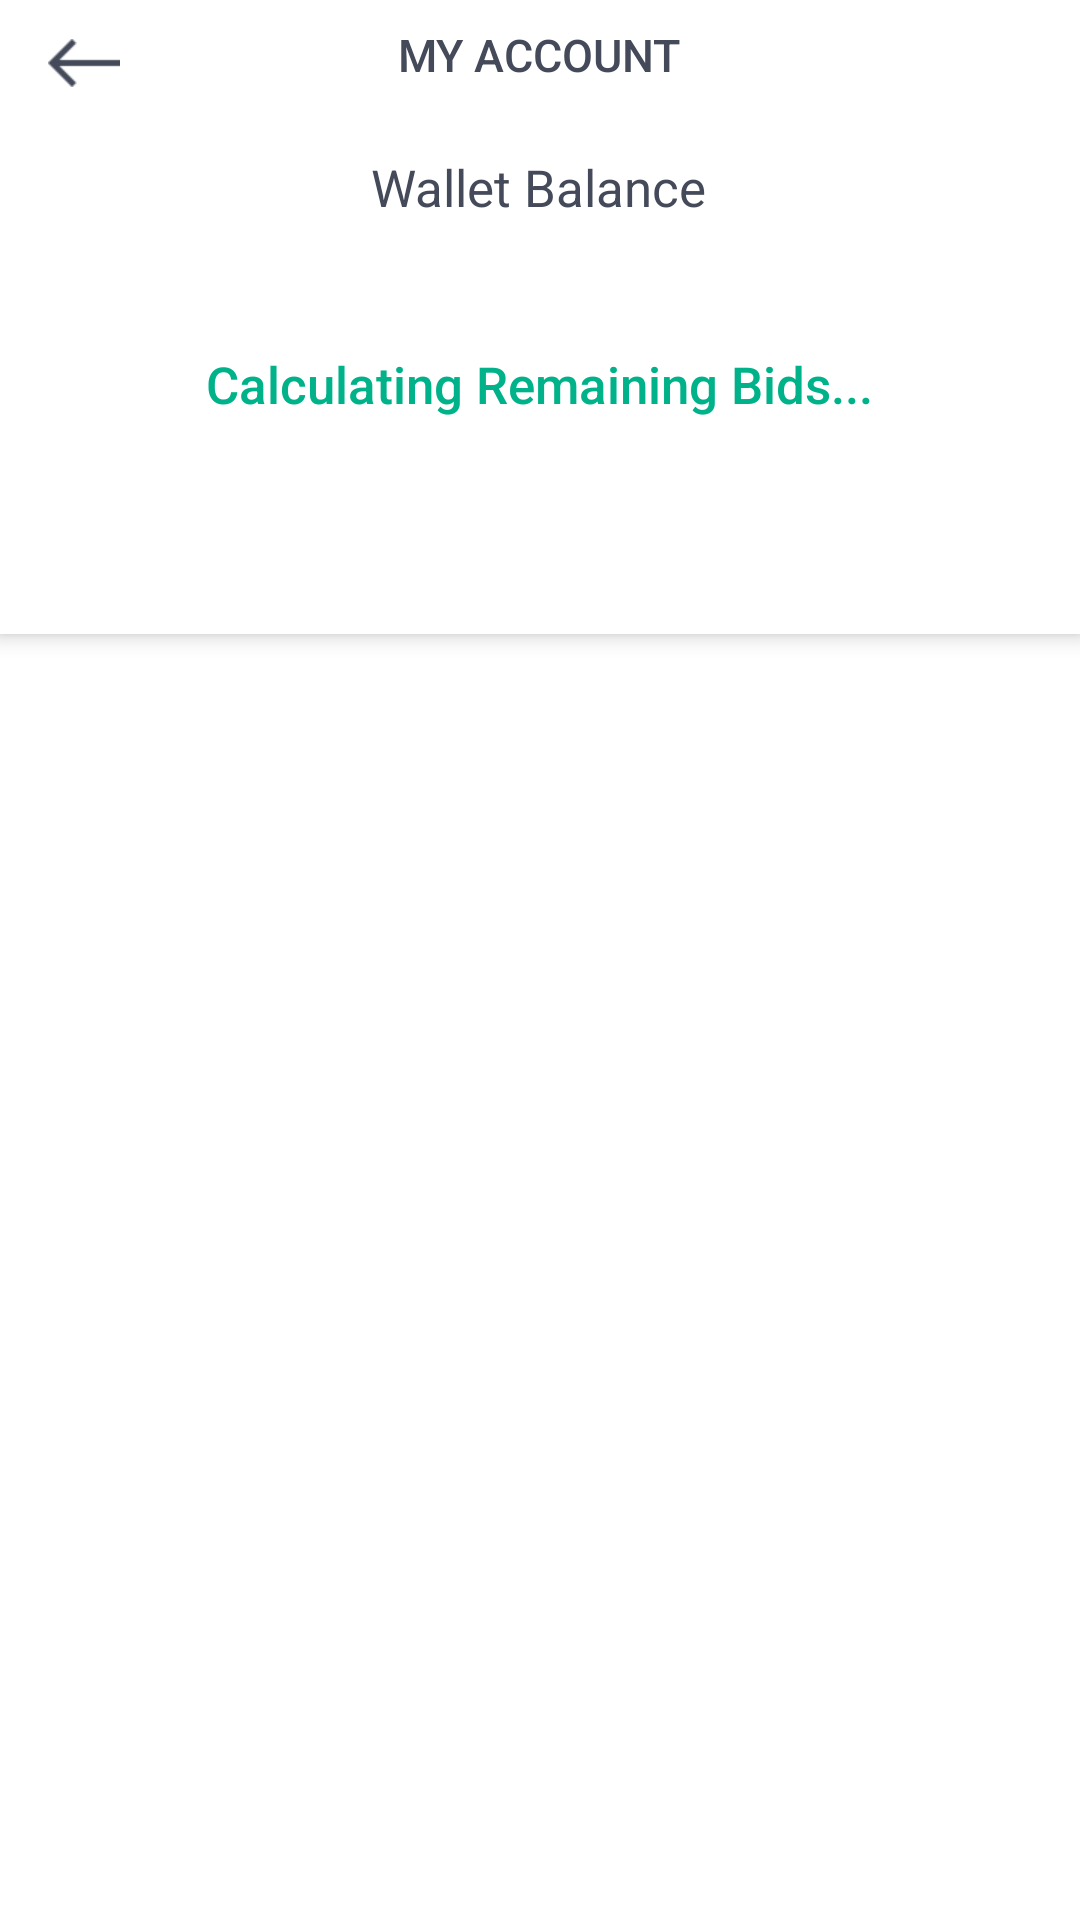

Screen size 1080px x 1920px. Icon name, then its box in pixels as (x1, y1, x2, y2):
back: (48, 39, 120, 87)
